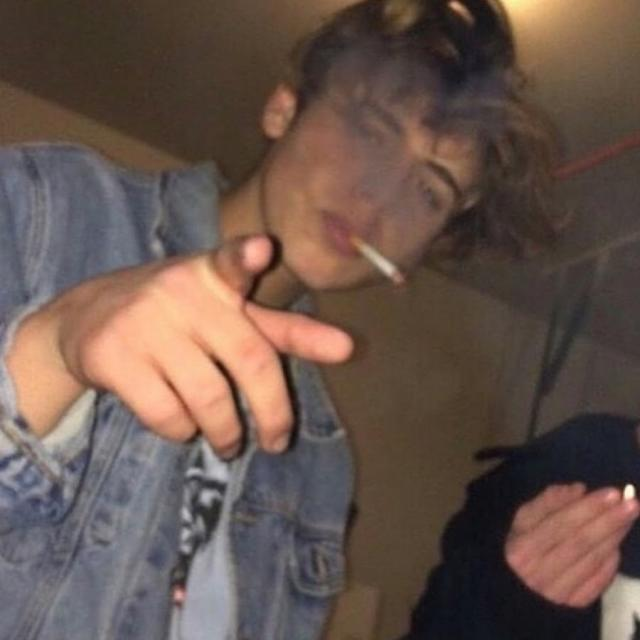smoke: (344, 226, 404, 292)
